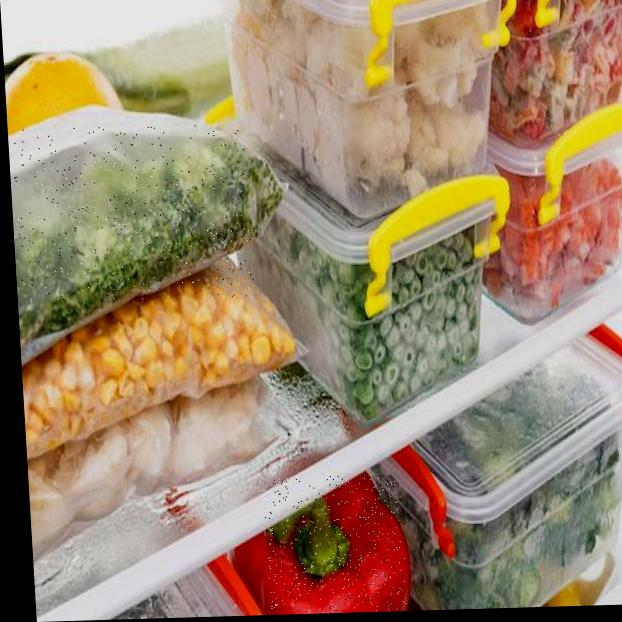broccoli: (11, 122, 255, 303)
red bell pepper: (262, 473, 408, 615)
